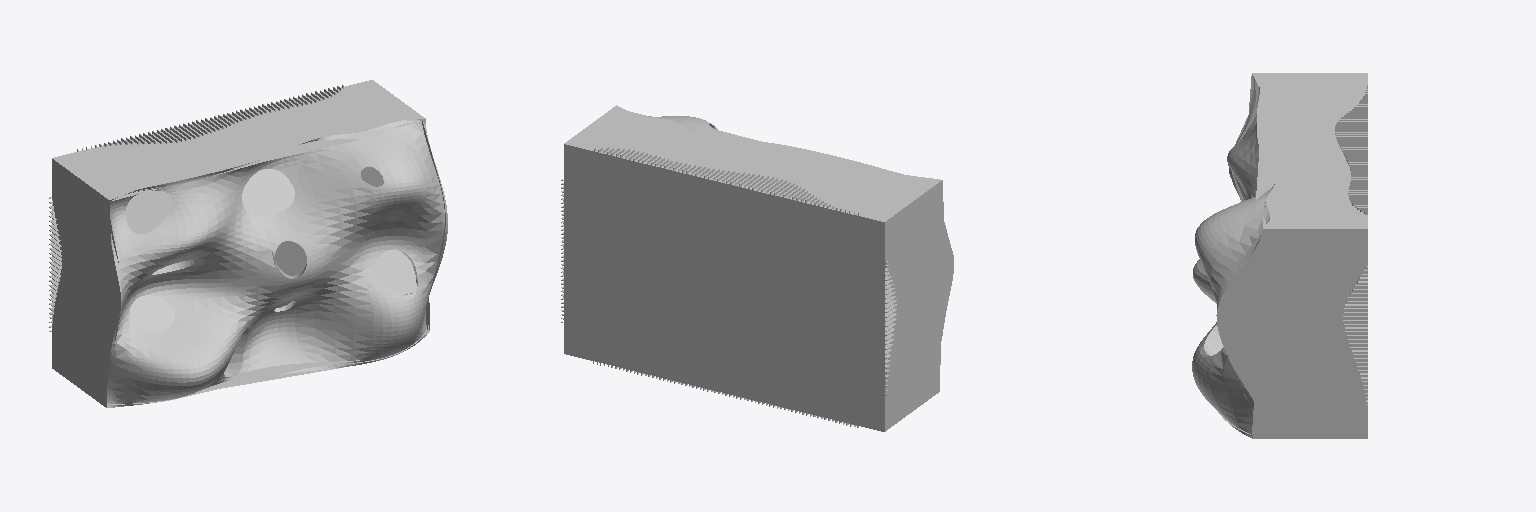
The picture shows the model from 3 angles: view 1: azimuth 30°, elevation 25°; view 2: azimuth 150°, elevation 25°; view 3: azimuth 270°, elevation 25°; orthographic projection.
Visible parts, largest first — view 1: OutsideFacade_35, OutsideFacade_30, Glazing_VT_34perc; view 2: GenericFloor_20, OutsideFacade_30; view 3: OutsideFacade_30, OutsideFacade_35, Glazing_VT_34perc.
Part boxes in pixels (x1,y1,x2,y2): OutsideFacade_35: (110,124,442,401); OutsideFacade_30: (49,80,447,407); Glazing_VT_34perc: (54,122,444,403); GenericFloor_20: (564,145,884,431); OutsideFacade_30: (561,105,953,431); OutsideFacade_30: (1216,73,1367,438); OutsideFacade_35: (1192,104,1262,431); Glazing_VT_34perc: (1218,87,1367,434).
Bounding box in the file's own units: 40.61 × 25.61 × 18.95.